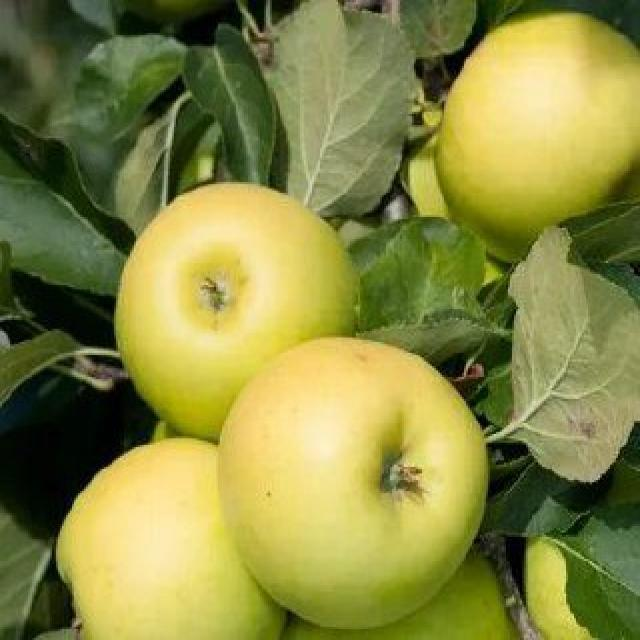Fresh Apple: (210, 345, 487, 622), (110, 180, 362, 430), (426, 21, 640, 258)
